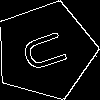U: (20, 25, 78, 75)
